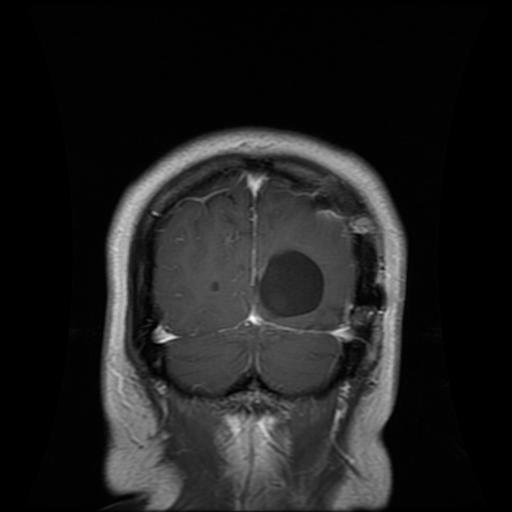Gliomia_tumour: (259, 251, 326, 315)
